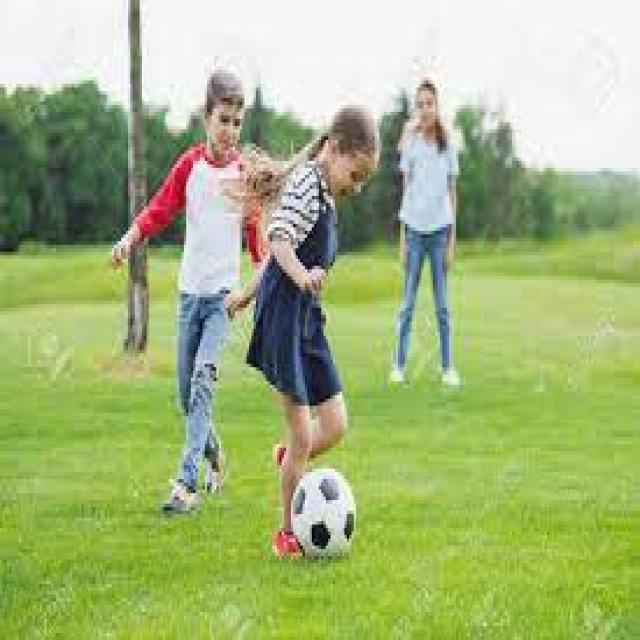ball: (294, 466, 357, 560)
